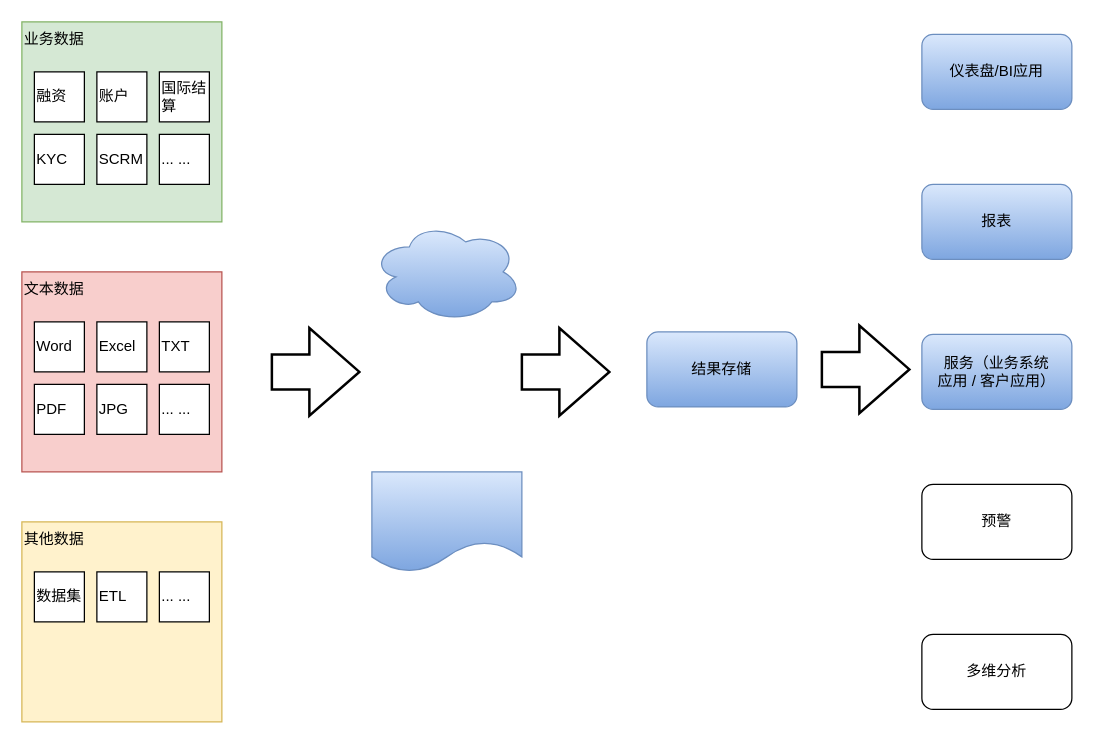
The diagram is 1094 pixels wide and 744 high, and some of its shapes have lost their labels. The centre of each missing label's shape, as x and y in pixels:
"数据加载" belongs at [446,271].
"数据转换" belongs at [446,521].
